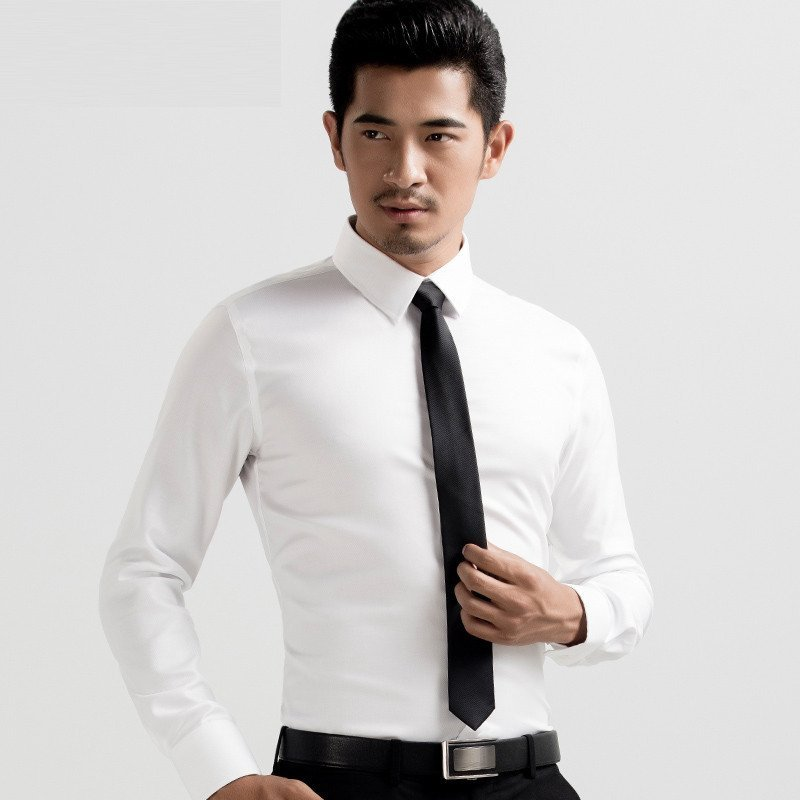F_belt: (263, 722, 575, 779)
F_shirt: (99, 251, 662, 743)
F_tie: (395, 285, 508, 730)
